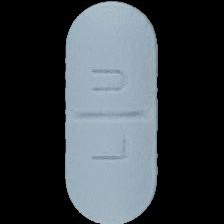51655-352: (0, 0, 224, 224)
